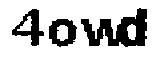4: (10, 6, 46, 51)
d: (118, 5, 153, 48)
o: (48, 15, 79, 49)
w: (79, 15, 123, 48)
